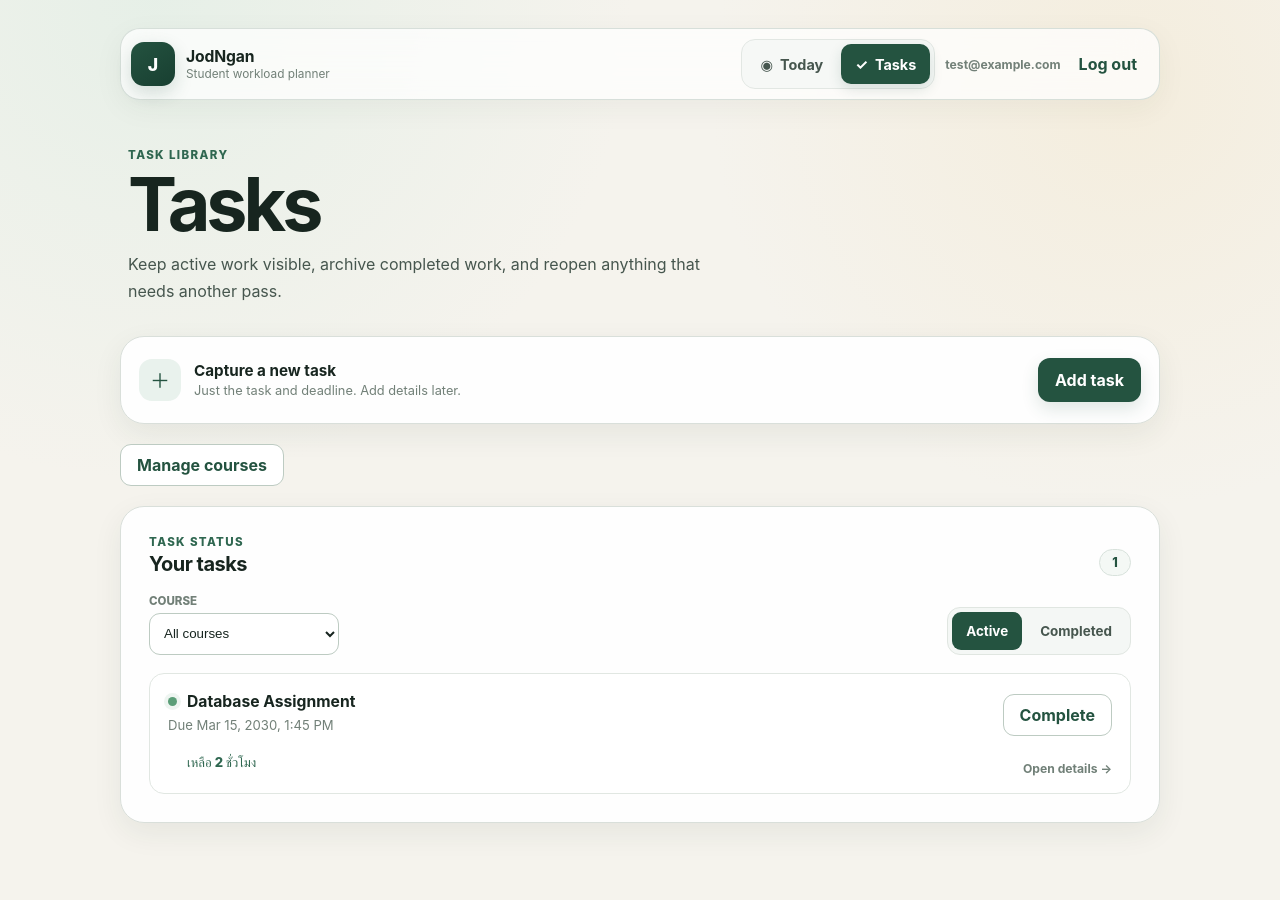
it: Task lifecycle flow › switches between active and completed task lists
Check: the heading "Database Assignment" is shown, box [187,691,355,712]
Click the tab "Completed": x=1076, y=631 [1026,612,1126,650]
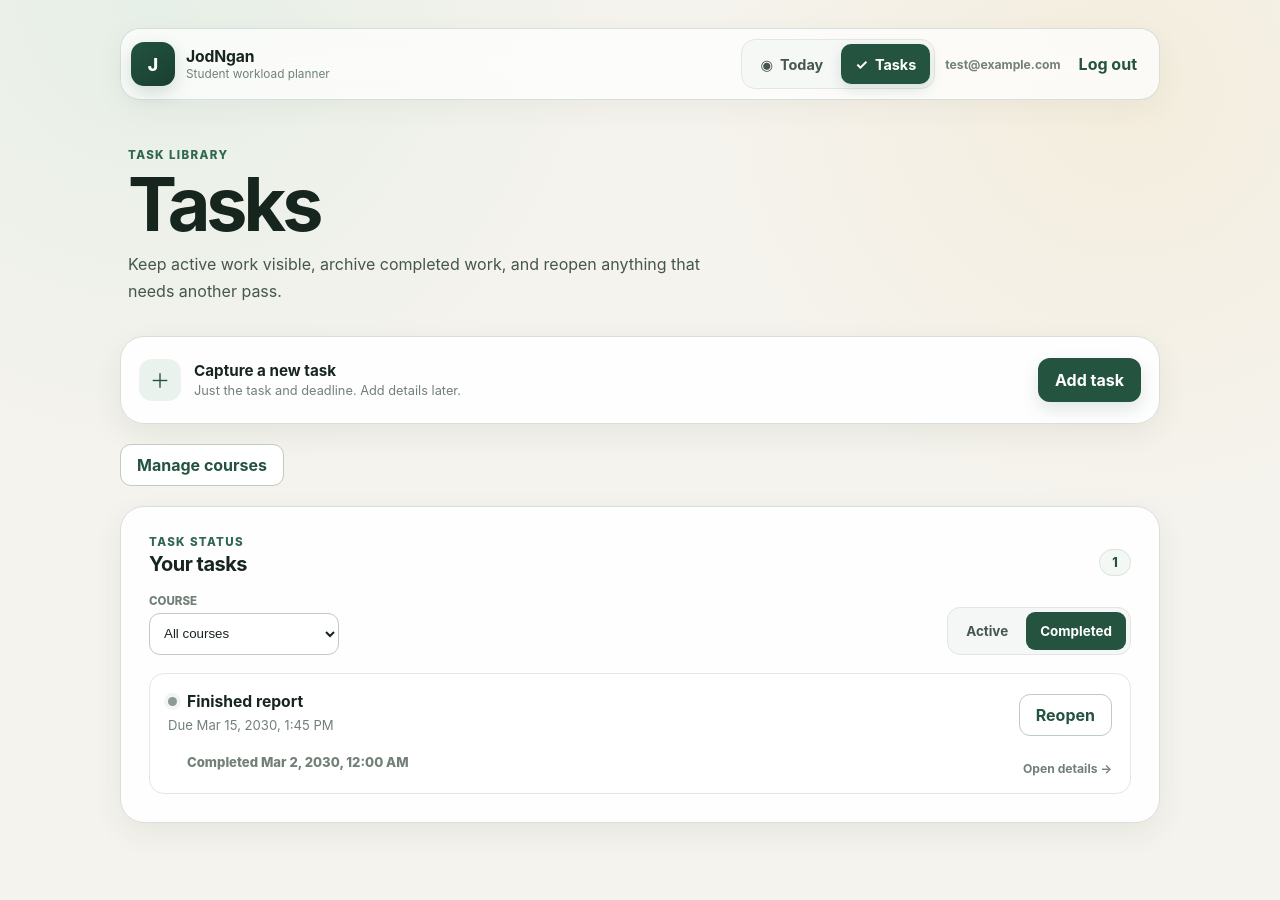
Check: the heading "Finished report" is shown, box [187,691,303,712]
